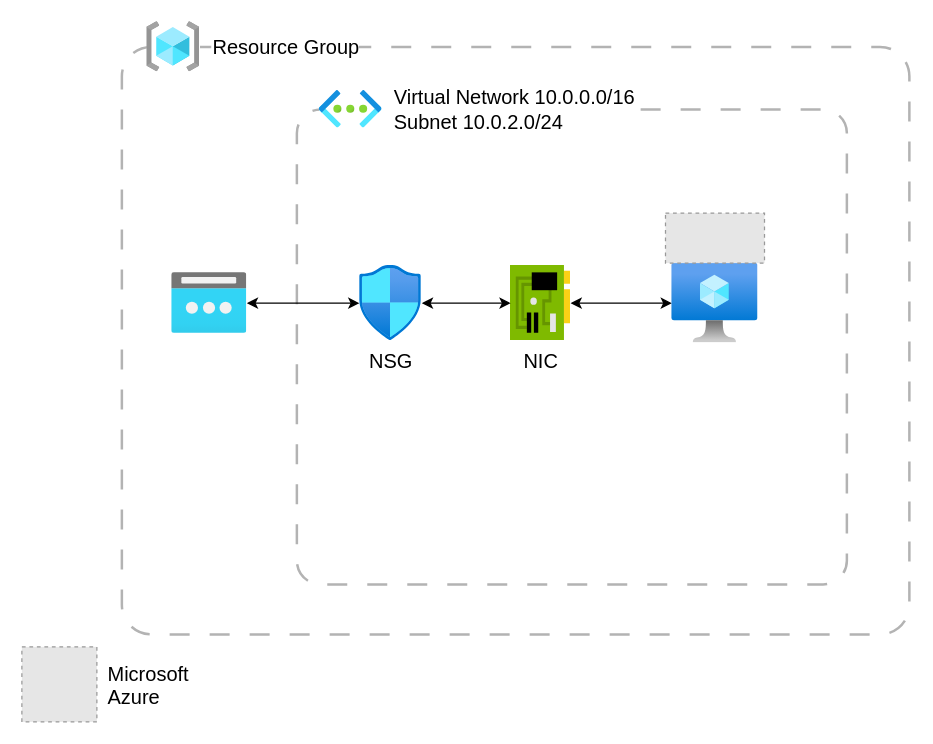
Image size: 933x744. Some labels were removed from this diagram. Grey dashed boxes stand in for pictures. Here are the shapes that lost their labels. From the top down, the centre of each, then its label:
At (x=208, y=302): "Public IP".
At (x=714, y=302): "Windows Virtual Machine".
